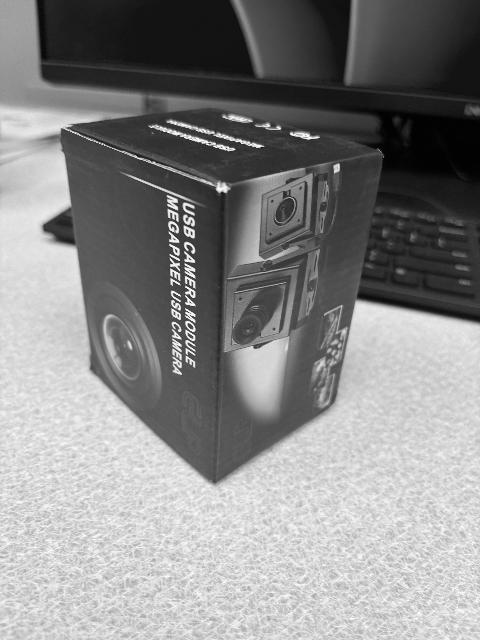CameraBox2: (59, 108, 384, 487)
